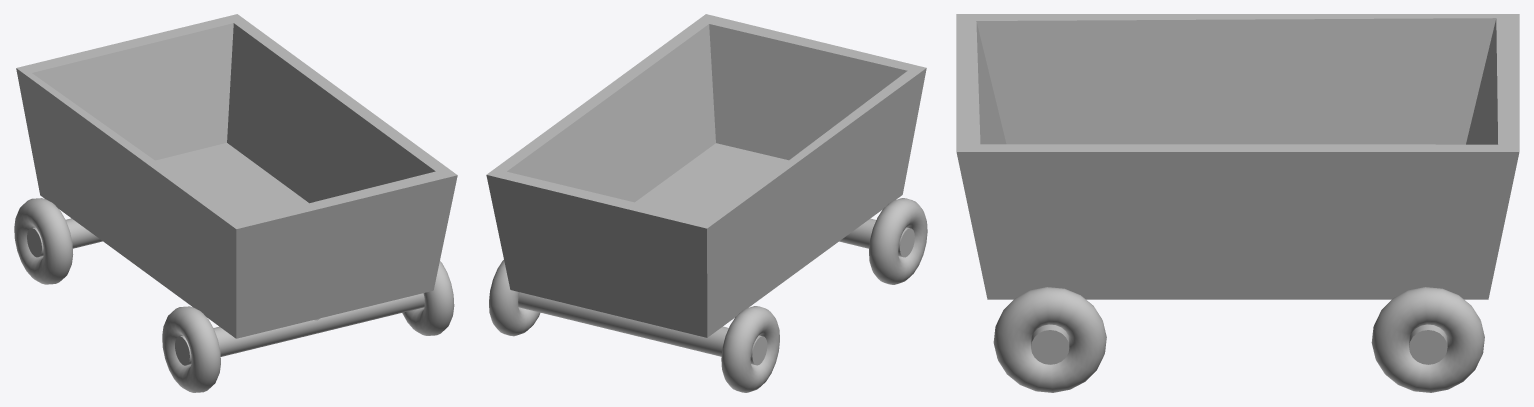
The model's file is Chariot animated blender.fbx.
The picture shows the model from 3 angles, left to right: view 1: azimuth 30°, elevation 25°; view 2: azimuth 150°, elevation 25°; view 3: azimuth 270°, elevation 25°; orthographic projection. The views are drawn at different scales.
Visible parts, largest first — view 1: pTorus5; view 2: pTorus5; view 3: pTorus5.
Boxes of the visible parts, bbox=[...] form: pTorus5: bbox=[14, 14, 457, 392]; pTorus5: bbox=[486, 14, 927, 392]; pTorus5: bbox=[956, 14, 1519, 392].
Bounding box in the file's own units: 10.13 × 6.92 × 14.89.
Materials: 1 (1 with a texture image).
